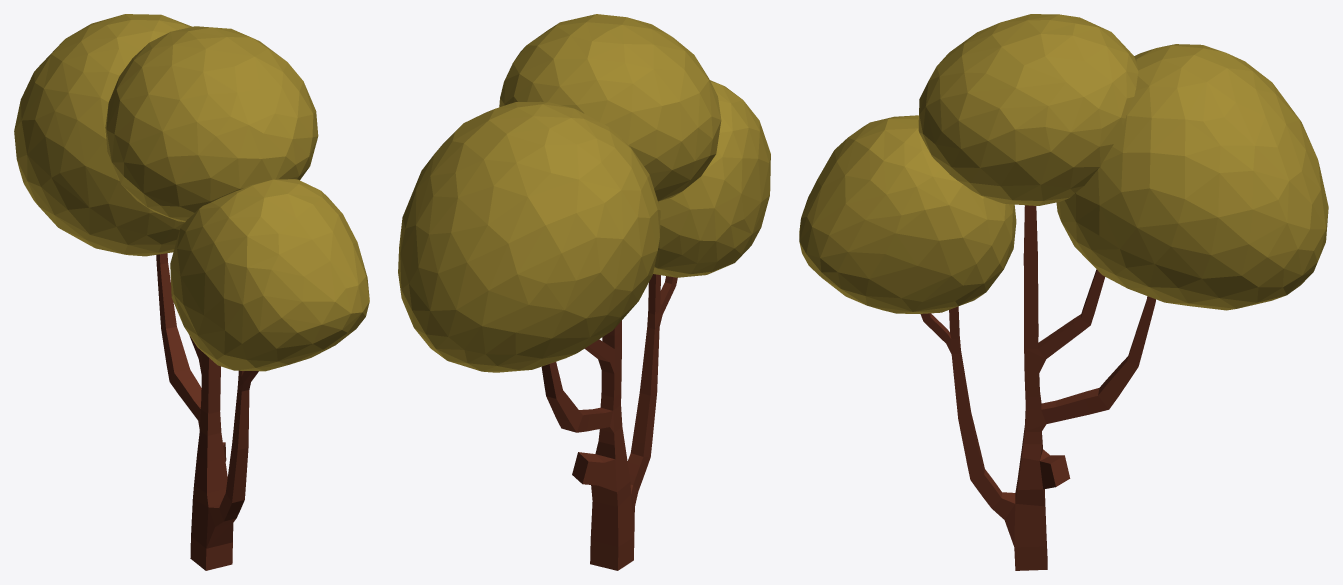
The model's file is MediumYellowTree.fbx.
3 renders of one model, left to right at view 1: azimuth 30°, elevation 25°; view 2: azimuth 150°, elevation 25°; view 3: azimuth 270°, elevation 25°, orthographic. The views are drawn at different scales.
Parts seen in each view (by area): view 1: Icosphere.001; view 2: Icosphere.001; view 3: Icosphere.001.
Part boxes in pixels (box(x1,y1,x2,y2)): Icosphere.001: box(14, 14, 369, 570); Icosphere.001: box(398, 14, 770, 570); Icosphere.001: box(799, 14, 1328, 570).
Bounding box in the file's own units: 81.95 × 190 × 169.
